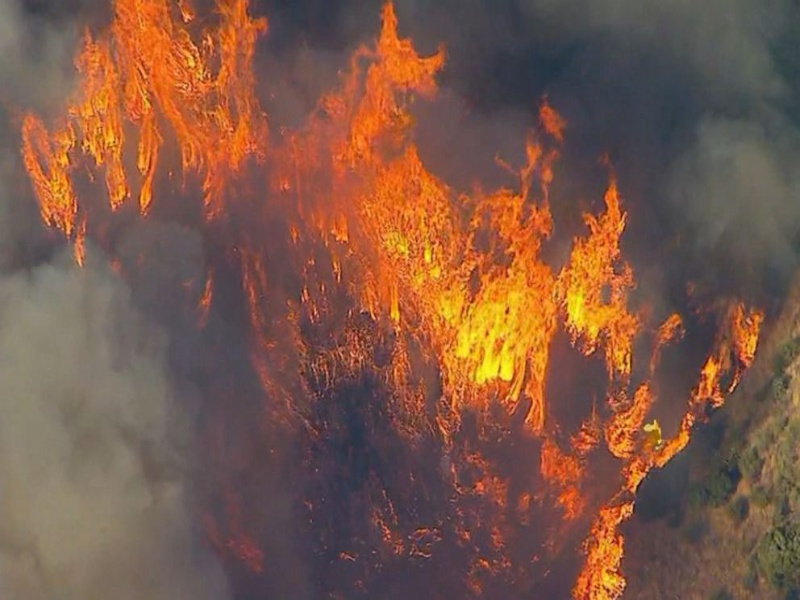fire: (306, 1, 658, 401), (7, 1, 276, 244), (363, 406, 627, 594), (658, 300, 767, 404)
